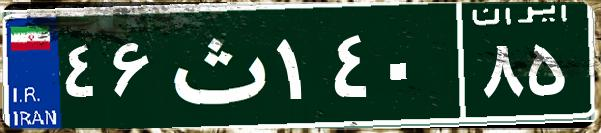0: (385, 28, 445, 110)
1: (273, 28, 330, 110)
4: (330, 28, 385, 110), (57, 26, 110, 107)
5: (525, 38, 570, 115)
6: (110, 28, 158, 105)
8: (475, 38, 525, 113)
ث: (158, 15, 273, 115)
